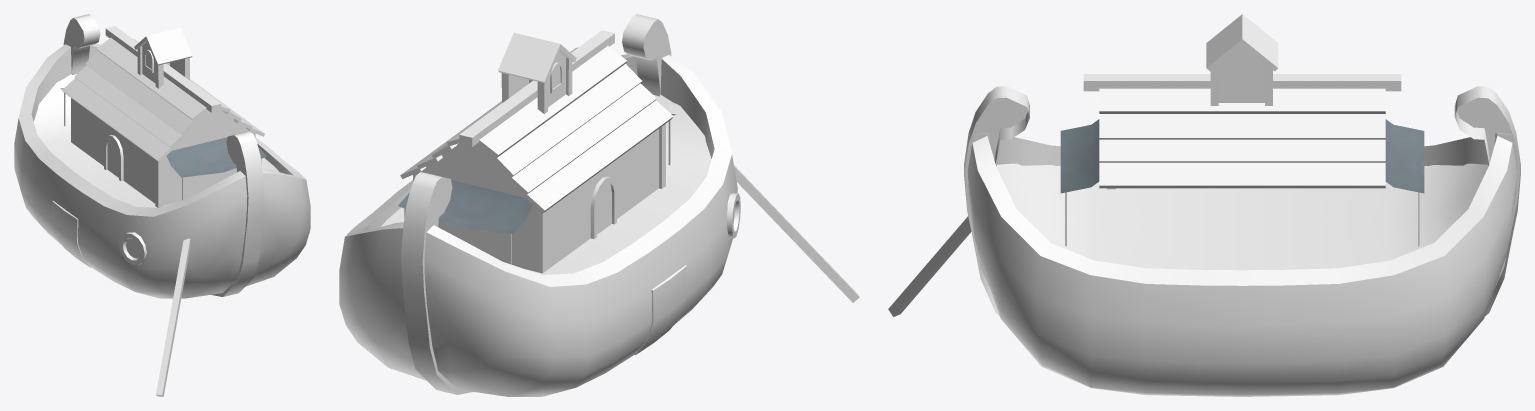
File: ark.FBX
3 views of the same model, side by side, from view 1: azimuth 30°, elevation 25°; view 2: azimuth 150°, elevation 25°; view 3: azimuth 270°, elevation 25° (orthographic). The views are drawn at different scales.
Visible parts, largest first — view 1: Plane011; view 2: Plane011; view 3: Plane011.
Part boxes in pixels (x1,y1,x2,y2): Plane011: (14, 14, 310, 396); Plane011: (339, 14, 859, 396); Plane011: (888, 14, 1520, 396).
Size of the model in its own units: 547 by 596 by 909.
1 material, 1 textured.
